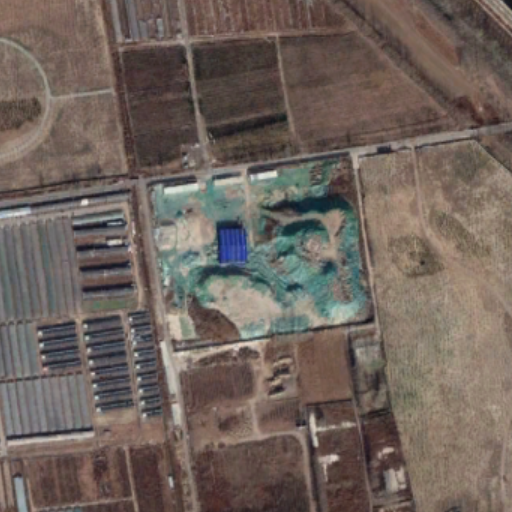cw: (145, 151, 377, 351)
